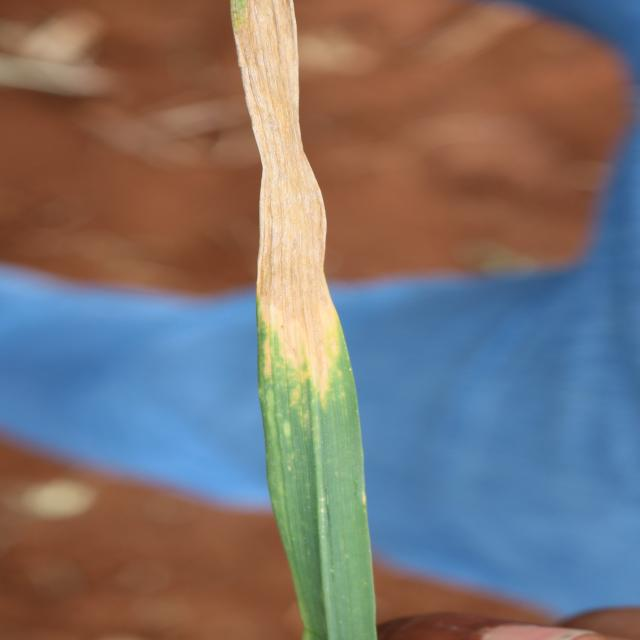Septoria: (228, 0, 379, 638)
